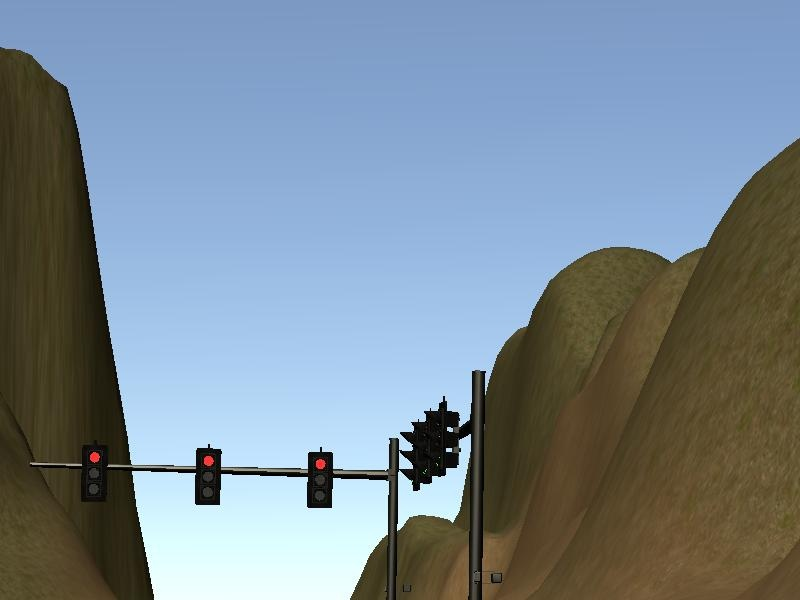red: (303, 446, 338, 515), (190, 442, 225, 509), (79, 443, 110, 502)
